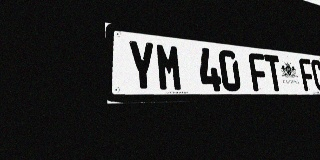0: (218, 49, 241, 91)
4: (197, 47, 222, 91)
C: (310, 59, 320, 91)
F: (248, 53, 269, 91), (298, 58, 316, 91)
M: (155, 42, 184, 91)
T: (264, 54, 284, 91)
Y: (127, 39, 158, 92)
